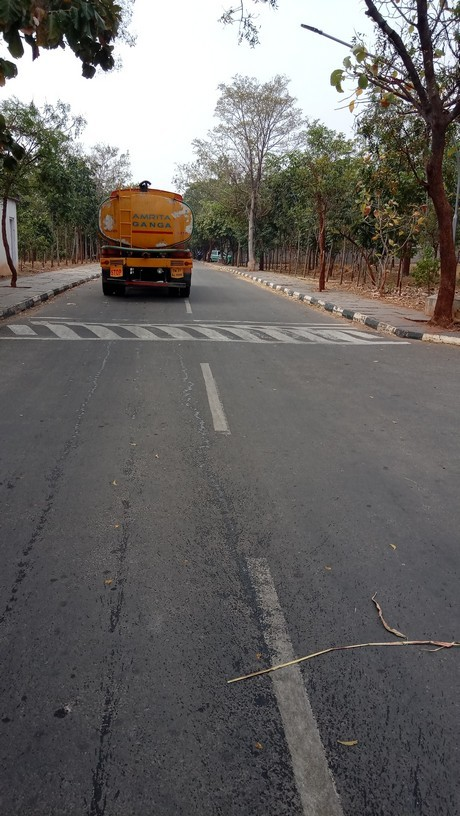bump: (1, 316, 407, 341)
